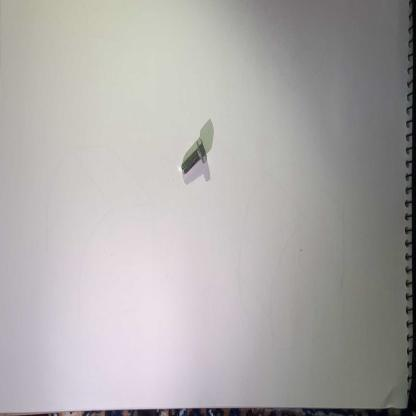Bolts: (179, 130, 209, 184)
